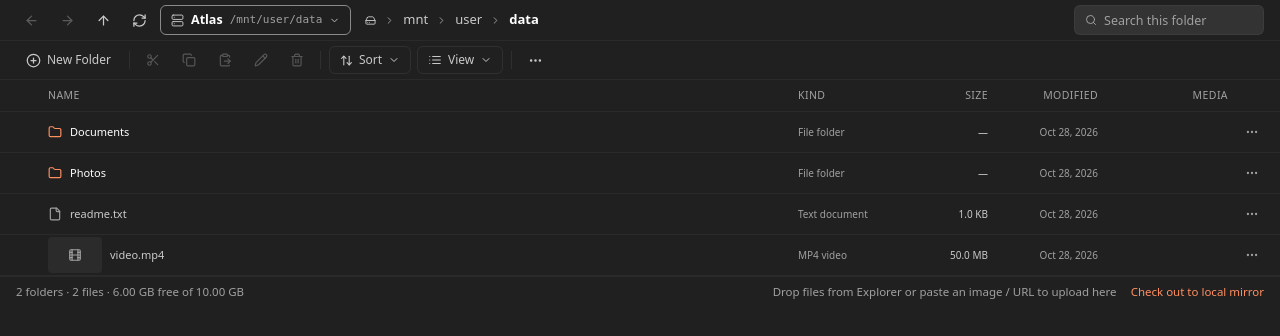
Test: BrowseView redesign — two-row toolbar › reports and switches view mode through the single View button
Expected: the text "readme.txt" is shown, [70,206,127,222]
Click the button "View" at (460, 60), box [417,46,503,74]
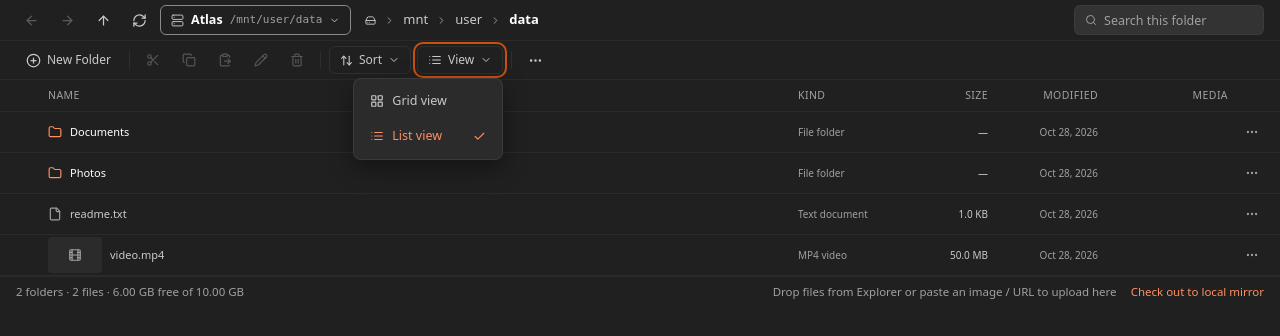
Click the menu item "Grid view" at (428, 101), box [359,84,497,119]
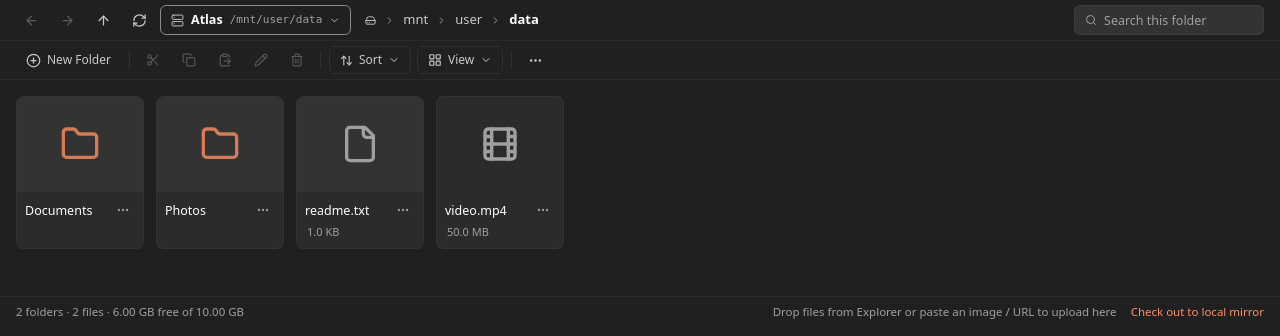
Expected: the text "readme.txt" is shown, [305,202,369,220]
Note: Switching back confirms the button still drives both directions.
Click the button "View" at (460, 60), box [417,46,503,74]
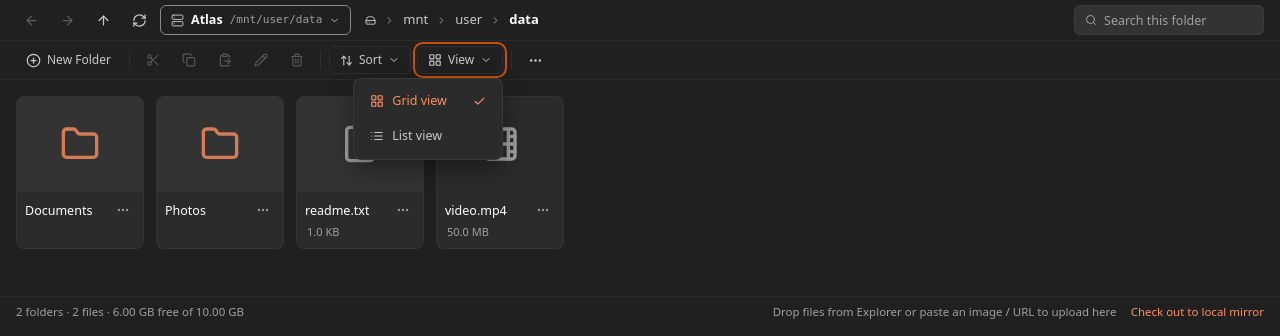
Click the menu item "List view" at (428, 136), box [359,119,497,154]
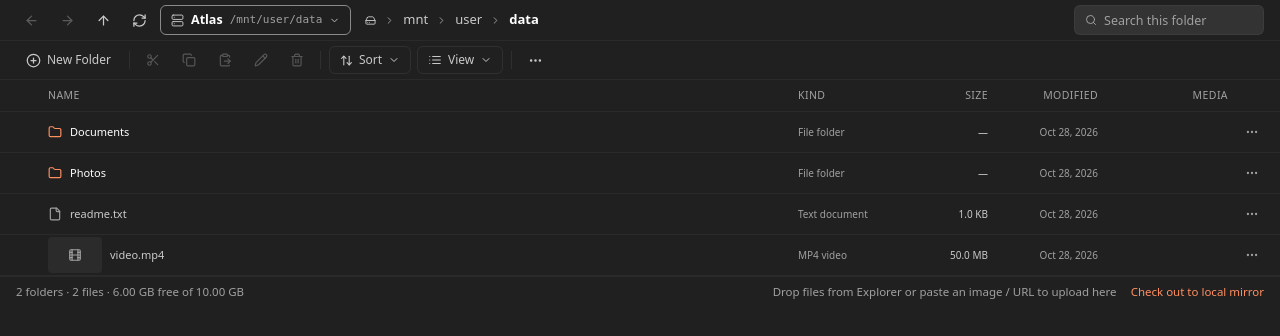
Expected: the text "Name" is shown, [48,88,80,102]
